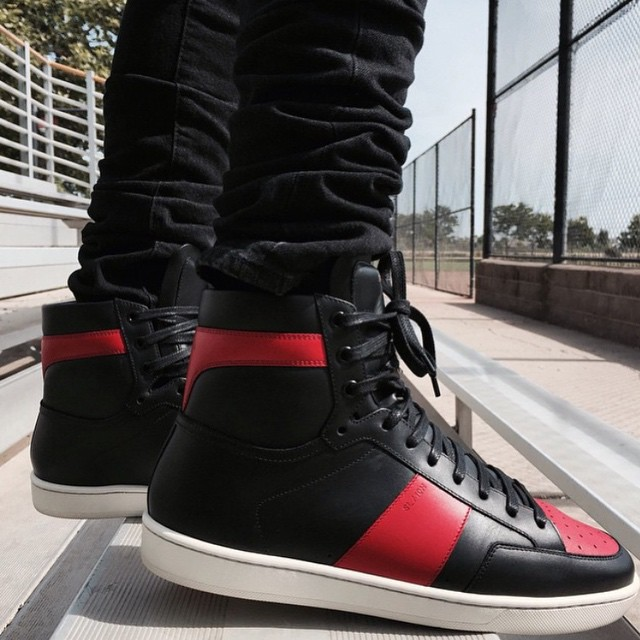sneaker: (113, 231, 640, 640), (14, 222, 238, 537)
